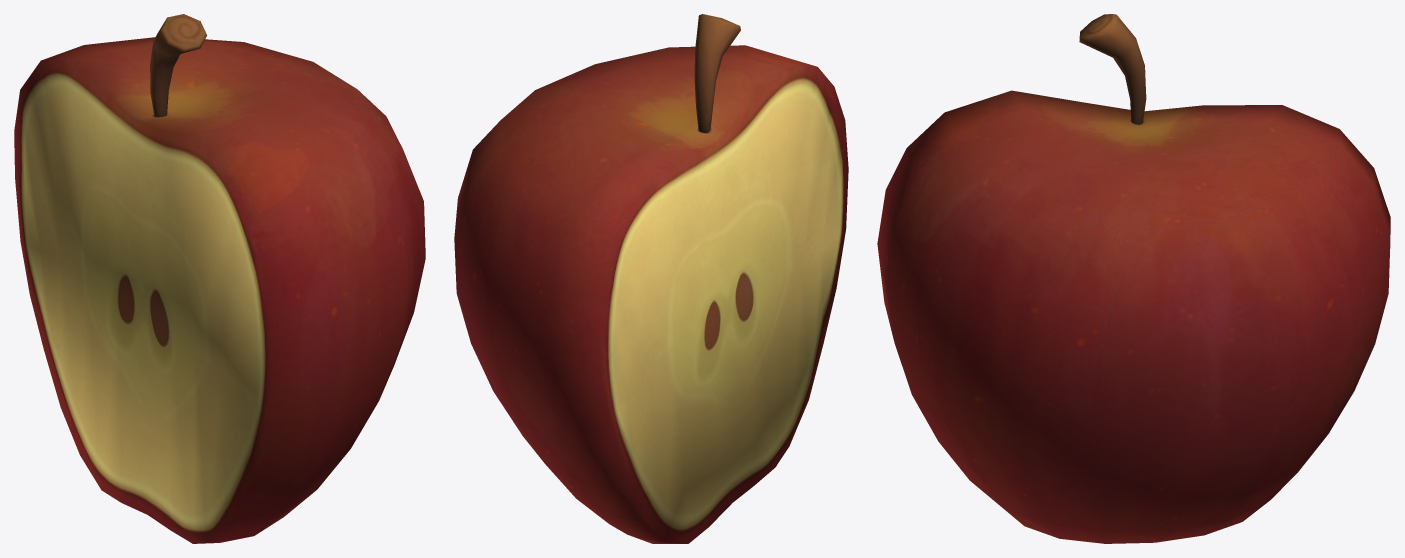
File: apple-half.glb
3 views of the same model, side by side, from view 1: azimuth 30°, elevation 25°; view 2: azimuth 150°, elevation 25°; view 3: azimuth 270°, elevation 25° (orthographic). The views are drawn at different scales.
Parts seen in each view (by area): view 1: apple-half; view 2: apple-half; view 3: apple-half.
Part boxes in pixels (x1,y1,x2,y2): apple-half: [14, 14, 425, 543]; apple-half: [454, 14, 848, 543]; apple-half: [877, 14, 1390, 543].
Bounding box in the file's own units: 0.5183 × 0.9978 × 0.9261.
1 material, 1 textured.
